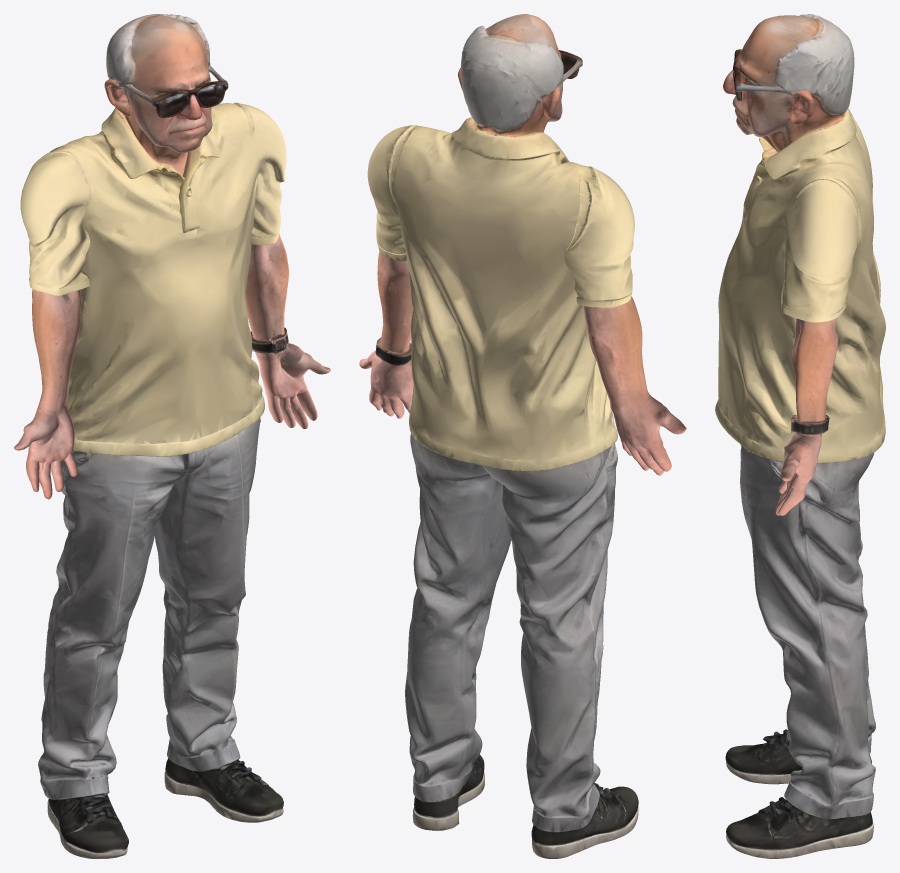
File: guerrino.glb
3 renders of one model, left to right at view 1: azimuth 30°, elevation 25°; view 2: azimuth 150°, elevation 25°; view 3: azimuth 270°, elevation 25°, orthographic.
Bounding box in the file's own units: 0.7977 × 1.9 × 0.3696.
Materials: 1 (1 with a texture image).
